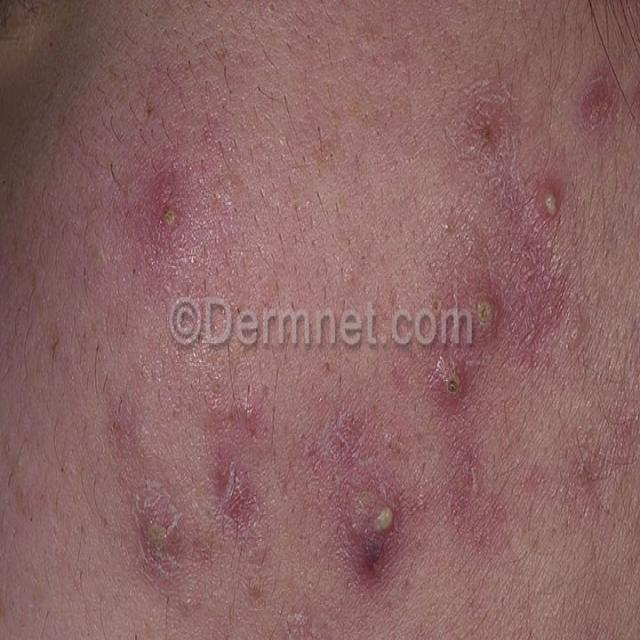Acne: (342, 479, 408, 590), (126, 480, 185, 590), (144, 162, 194, 264), (576, 56, 626, 152), (462, 87, 510, 179), (212, 380, 267, 448), (209, 454, 260, 524), (472, 274, 507, 355), (428, 351, 473, 411), (530, 171, 567, 238)
